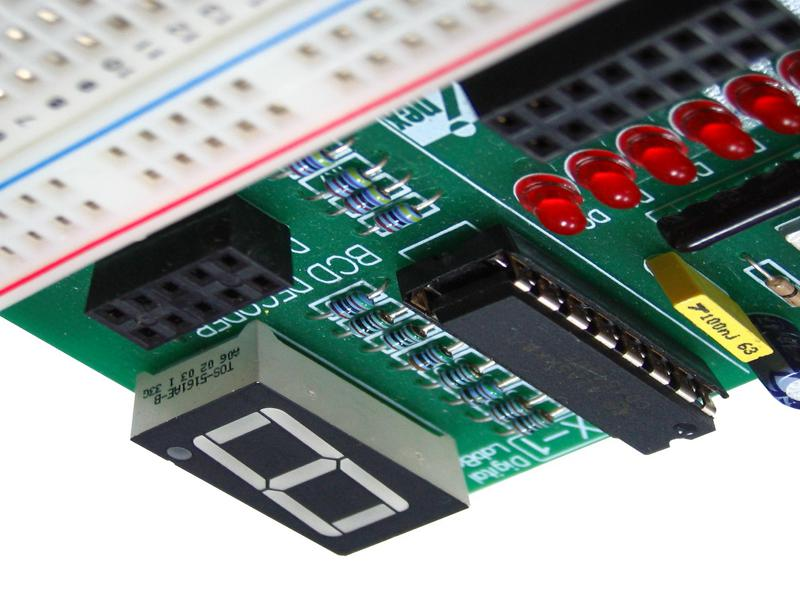Capacitor: (740, 313, 800, 413)
LED: (671, 98, 759, 164), (618, 124, 699, 189), (721, 72, 800, 136), (566, 147, 643, 212), (511, 173, 588, 237)
Resistor: (340, 302, 404, 342), (341, 176, 400, 218), (453, 372, 511, 413), (370, 197, 428, 237), (322, 284, 382, 322), (432, 356, 491, 392), (318, 161, 375, 197), (484, 390, 541, 426), (754, 266, 800, 310), (286, 143, 340, 180), (401, 339, 458, 374), (376, 319, 432, 354), (505, 407, 554, 438)
